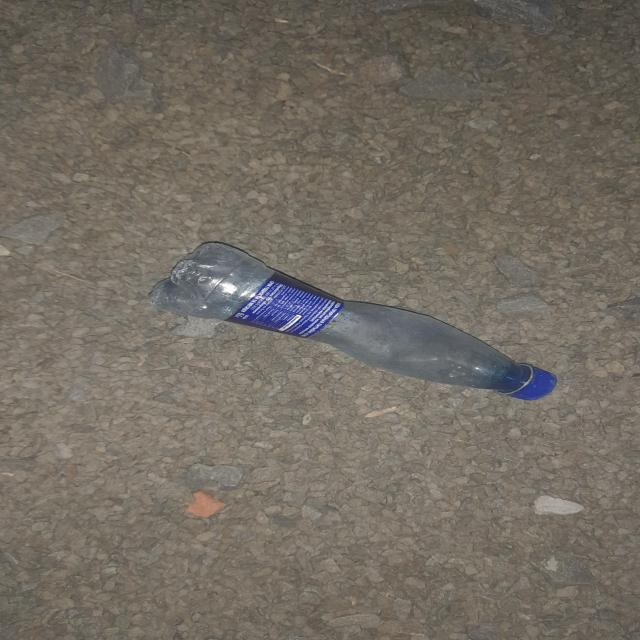empty: (150, 242, 556, 400)
